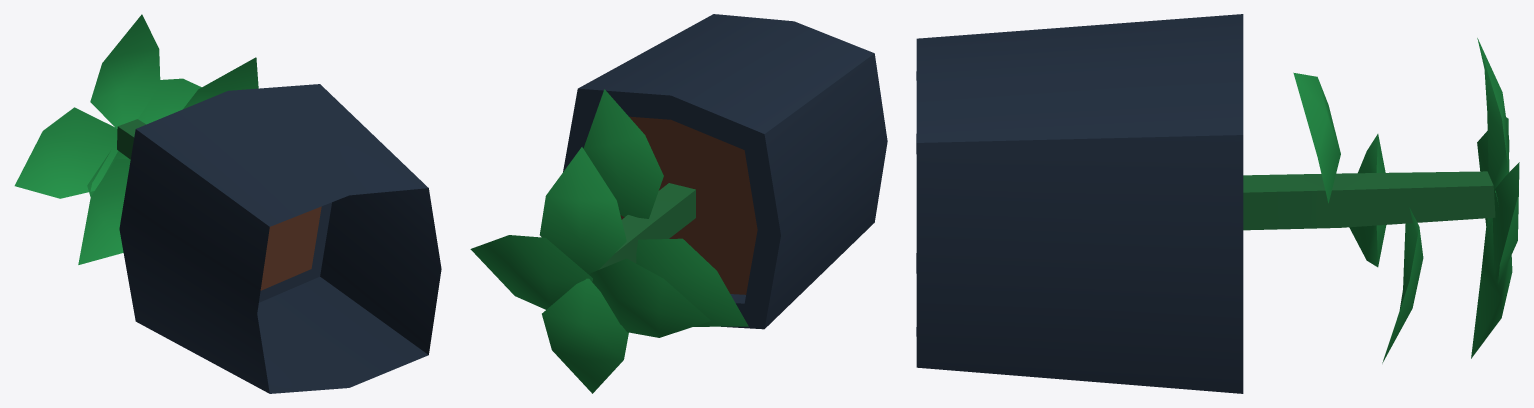
The model's file is Potted Plant 02.FBX.
3 views of the same model, side by side, from view 1: azimuth 30°, elevation 25°; view 2: azimuth 150°, elevation 25°; view 3: azimuth 270°, elevation 25° (orthographic). The views are drawn at different scales.
Visible parts, largest first — view 1: Potted Plant 02; view 2: Potted Plant 02; view 3: Potted Plant 02.
Boxes of the visible parts, box(x1,y1,x2,y2) form: Potted Plant 02: box(14, 14, 441, 393); Potted Plant 02: box(470, 14, 887, 393); Potted Plant 02: box(916, 14, 1519, 393).
Size of the model in its own units: 67.96 by 67.36 by 112.
Materials: 1 (1 with a texture image).
